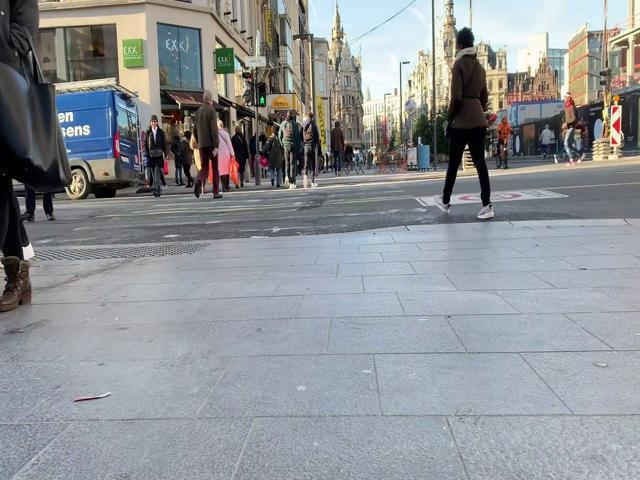shoe: (1, 256, 31, 312), (434, 199, 450, 214), (478, 205, 494, 218)
